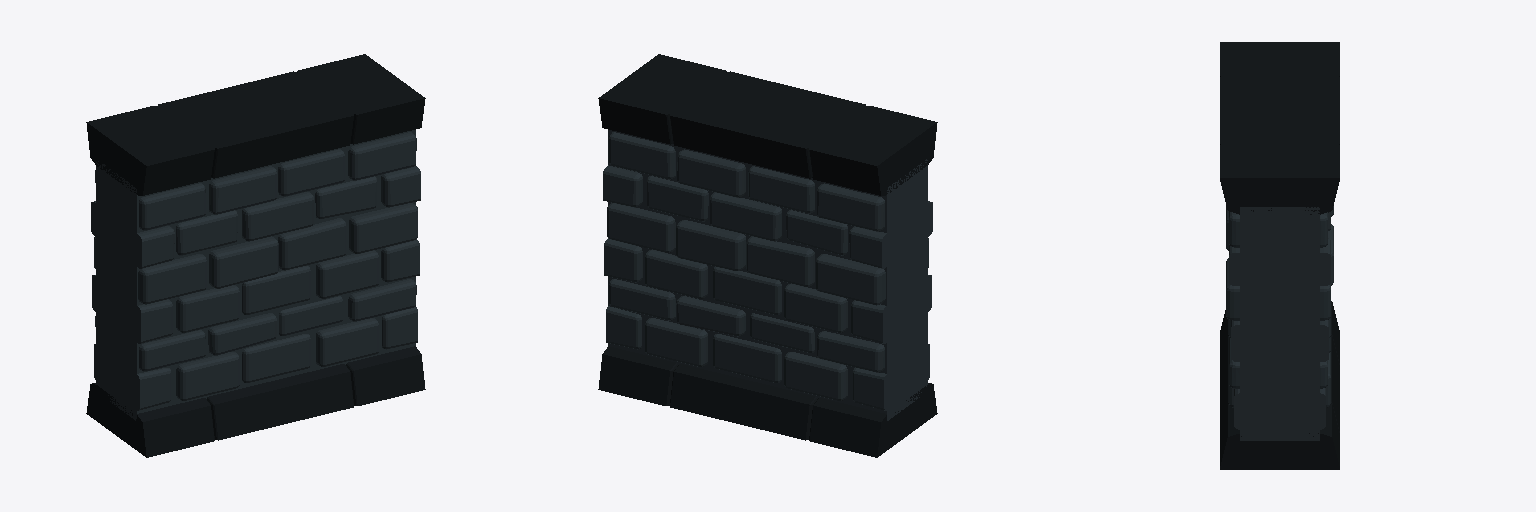
Rendered from wall.obj.
3 renders of one model, left to right at view 1: azimuth 30°, elevation 25°; view 2: azimuth 150°, elevation 25°; view 3: azimuth 270°, elevation 25°, orthographic.
Visible parts, largest first — view 1: wall_Cube.4230; view 2: wall_Cube.4230; view 3: wall_Cube.4230.
Part boxes in pixels (left/top/right/bottom): wall_Cube.4230: left=86, top=54, right=425, bottom=457; wall_Cube.4230: left=598, top=54, right=937, bottom=457; wall_Cube.4230: left=1220, top=42, right=1339, bottom=469.
Bounding box in the file's own units: 4 × 4 × 1.5.